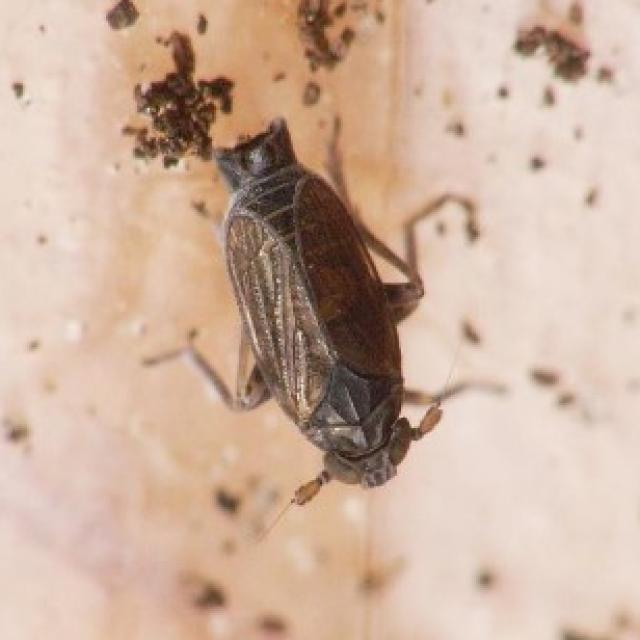brown plant hopper: (204, 125, 443, 505)
